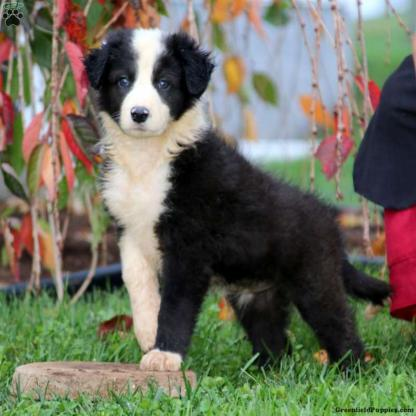Border Collie: (84, 25, 364, 363)
